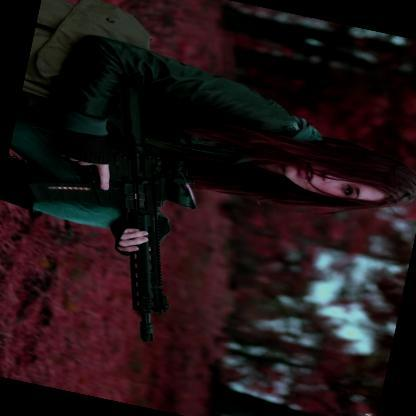rifle: (0, 63, 232, 354)
